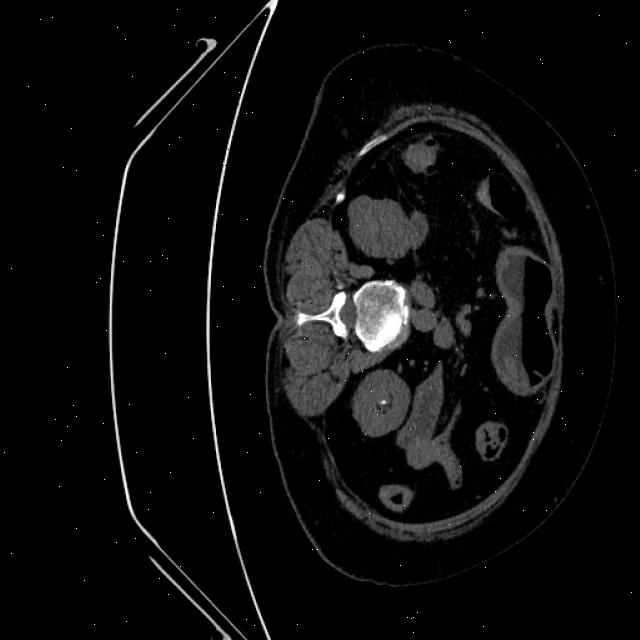kidneystone: (381, 398, 390, 409)
